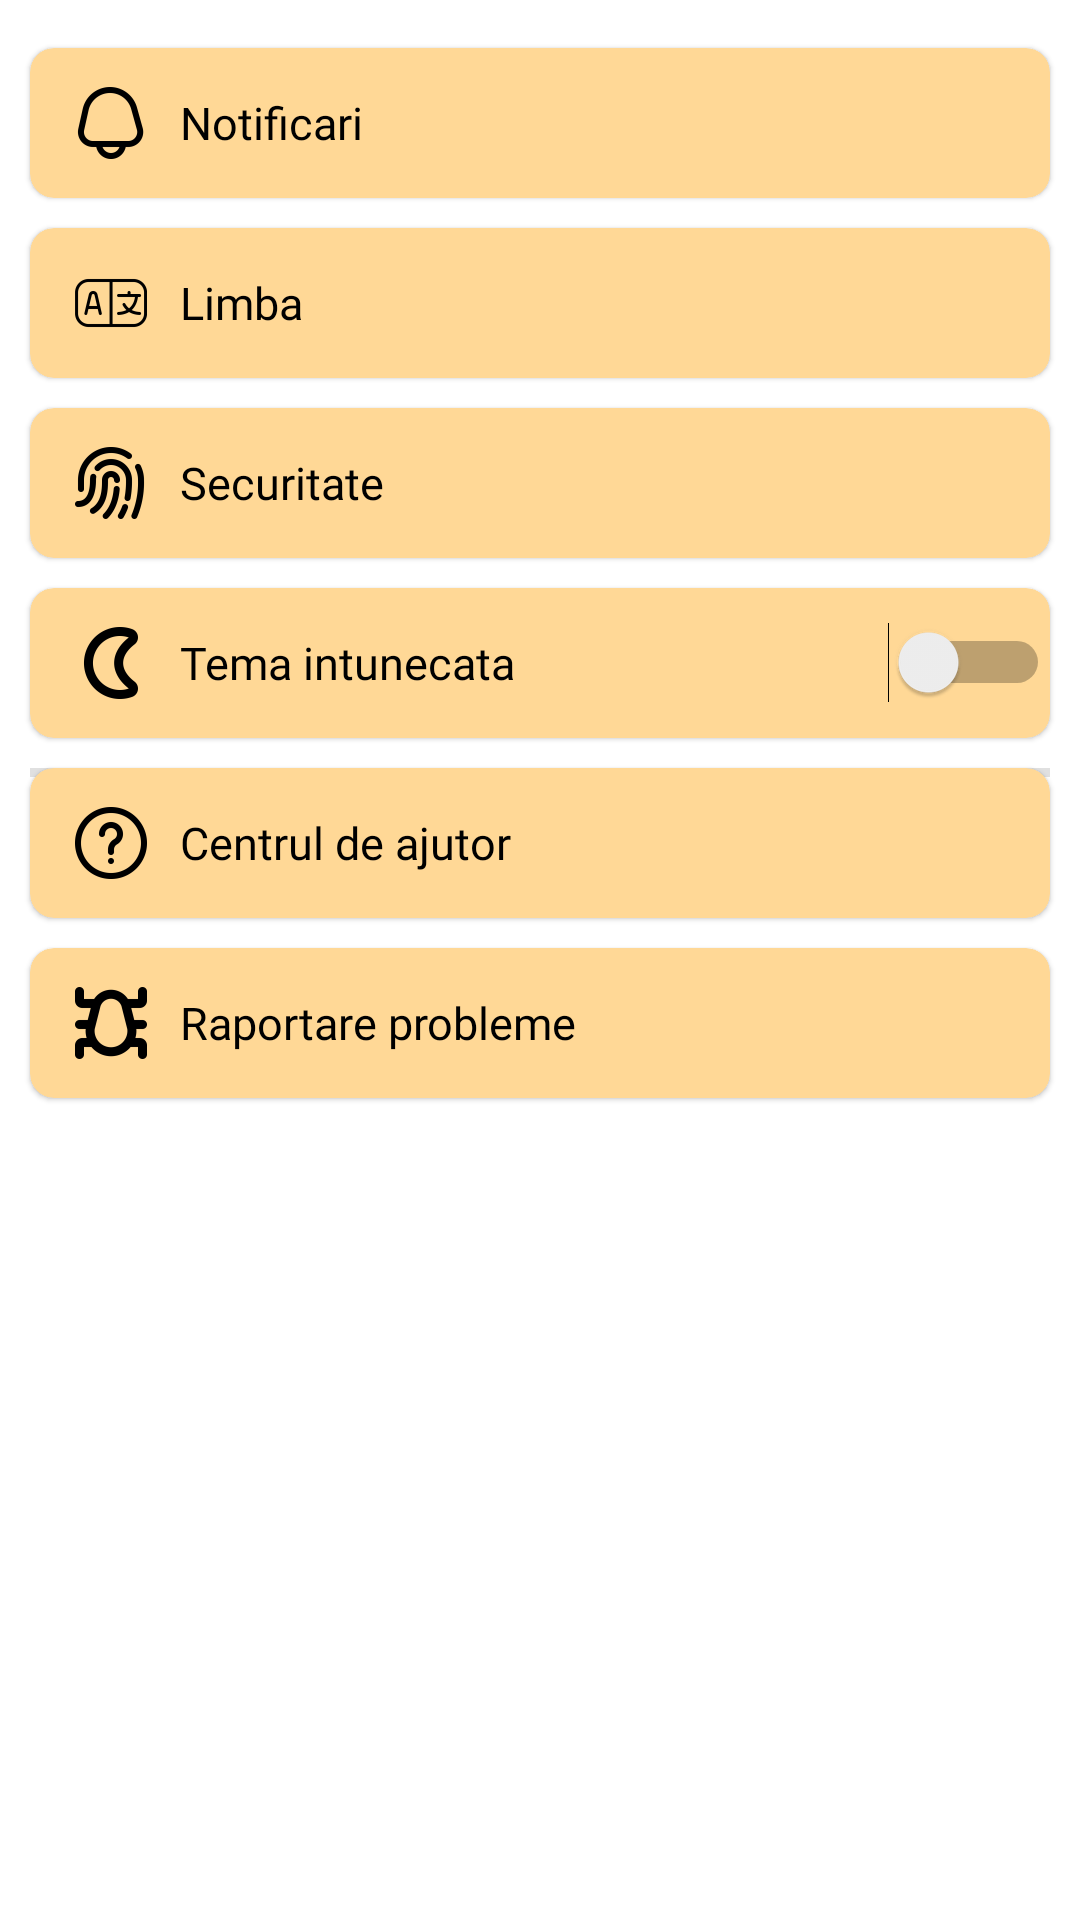

Named icons in this screenshot (1080w x 1920h) and their bounding boxes, [x1=x1, y1=y1, x2=x2, y2=y2]:
bell: [x1=78, y1=87, x2=144, y2=159]
bug: [x1=75, y1=987, x2=147, y2=1059]
fingerprint: [x1=75, y1=447, x2=144, y2=519]
interrogation: [x1=75, y1=807, x2=147, y2=879]
language: [x1=75, y1=279, x2=147, y2=327]
moon: [x1=84, y1=627, x2=138, y2=699]
